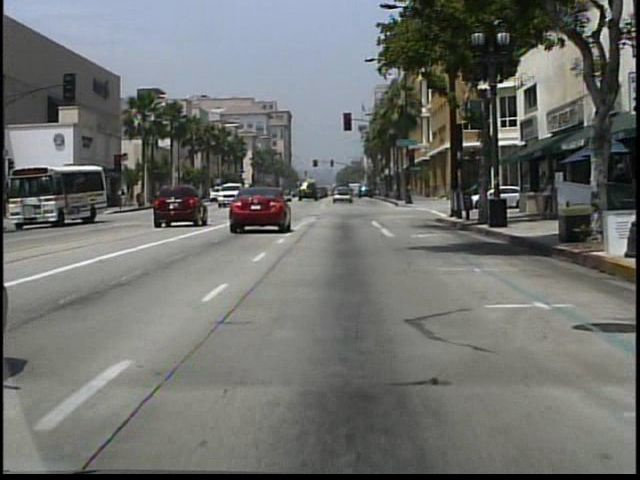person: (538, 170, 555, 220)
